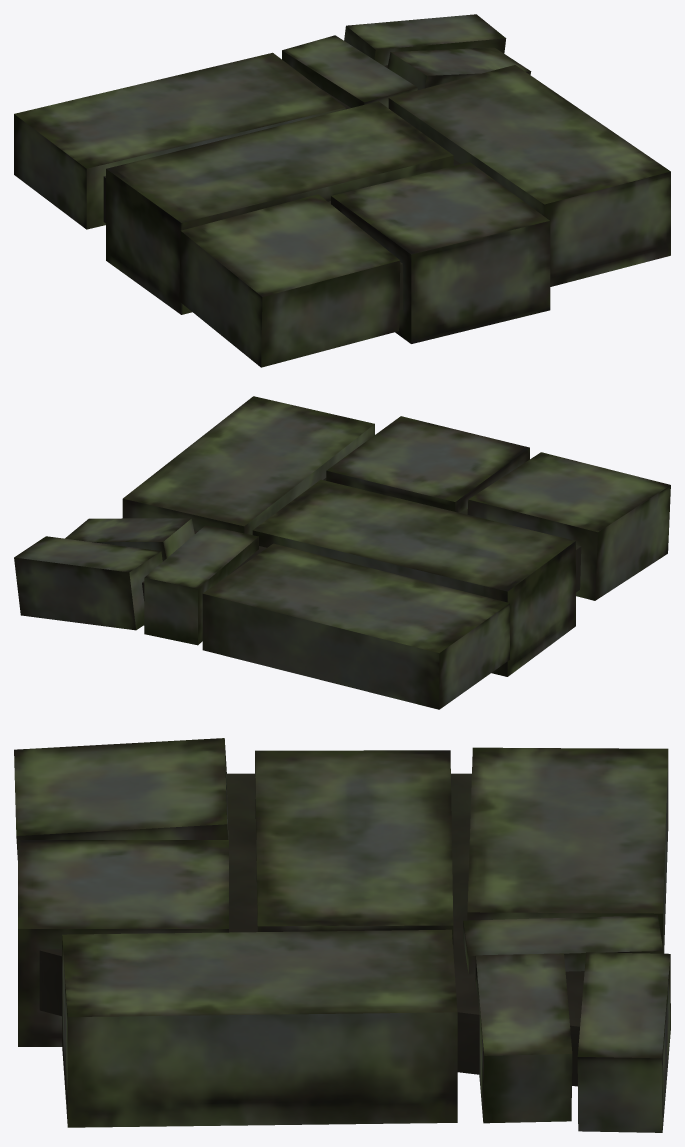
File: ruin-platform-01.fbx
3 renders of one model, top to bottom at view 1: azimuth 30°, elevation 25°; view 2: azimuth 150°, elevation 25°; view 3: azimuth 270°, elevation 25°, orthographic. The views are drawn at different scales.
Parts seen in each view (by area): view 1: platform01; view 2: platform01; view 3: platform01.
Part boxes in pixels (x1,y1,x2,y2): platform01: [14, 14, 670, 367]; platform01: [14, 396, 670, 709]; platform01: [14, 738, 670, 1132].
Size of the model in its own units: 233 by 47.04 by 218.
